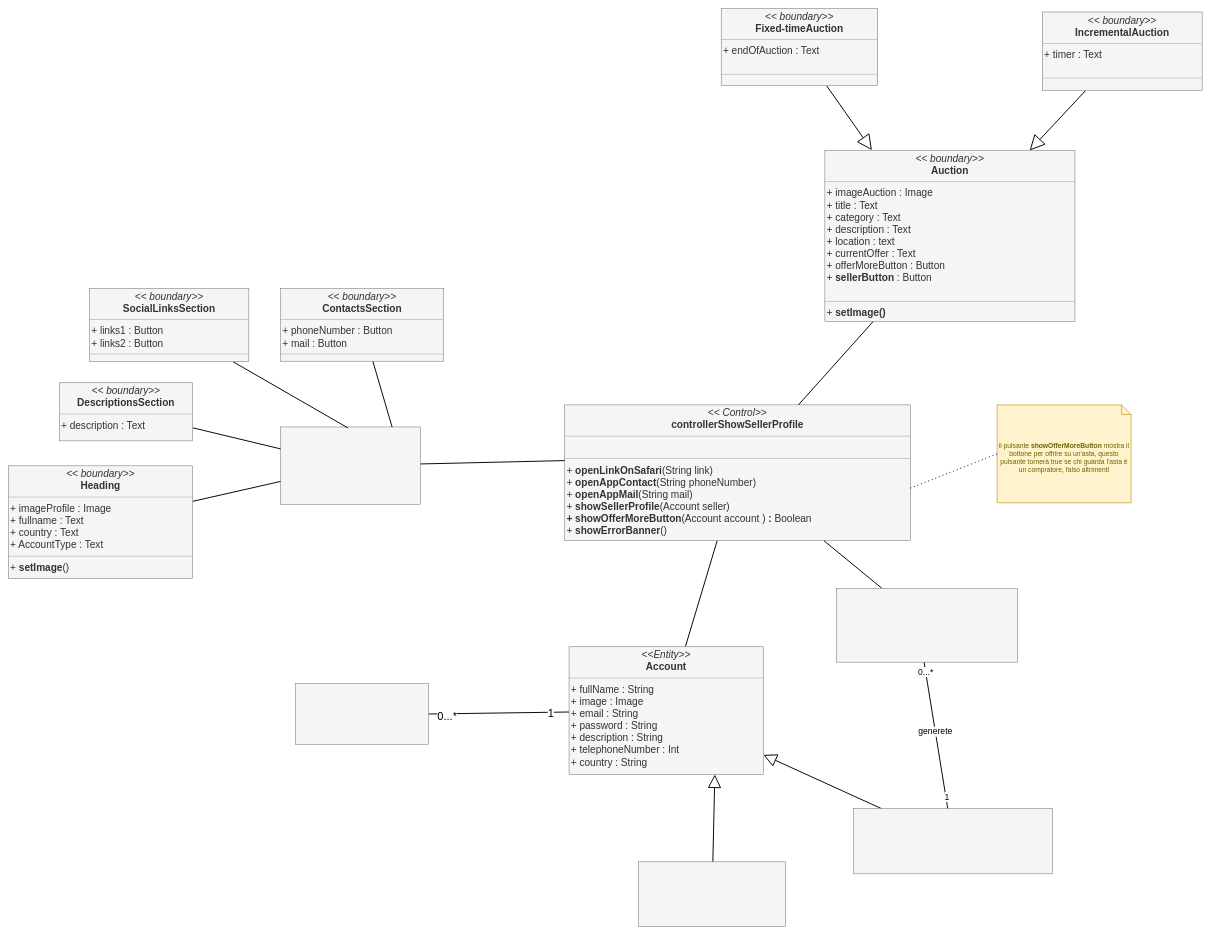
This 1211x935 diagram has some shape labels left out. The shapes that lost their labels are listed below. From the top down, each one's centre as x and y in pixels, then its label:
At (x=350, y=465): "<< boundary >> Profile".
At (x=926, y=625): "<<Entity>> Auction + getCreator()".
At (x=362, y=713): "<<Entity>> SocialLink + link : String".
At (x=952, y=841): "<<Entity>> Seller".
At (x=712, y=894): "<<Entity>> Buyer".
